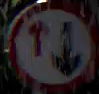Two way: (8, 3, 98, 93)
